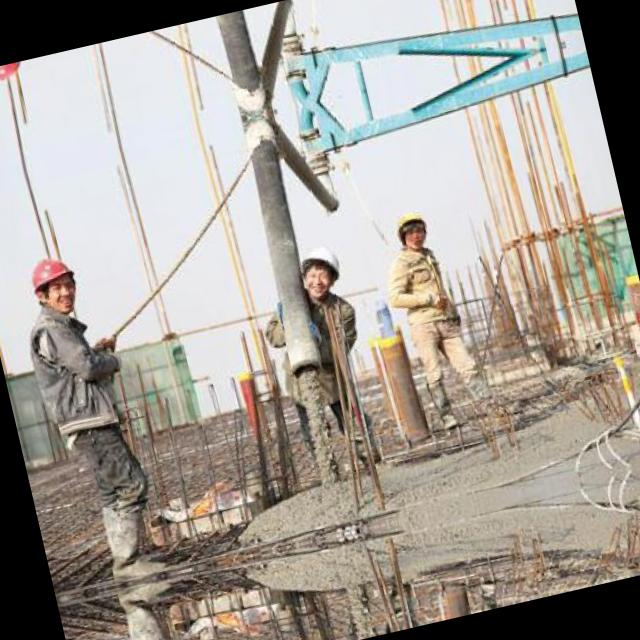helmet: (20, 245, 86, 322), (293, 237, 347, 305), (388, 202, 433, 254), (0, 58, 34, 93)
